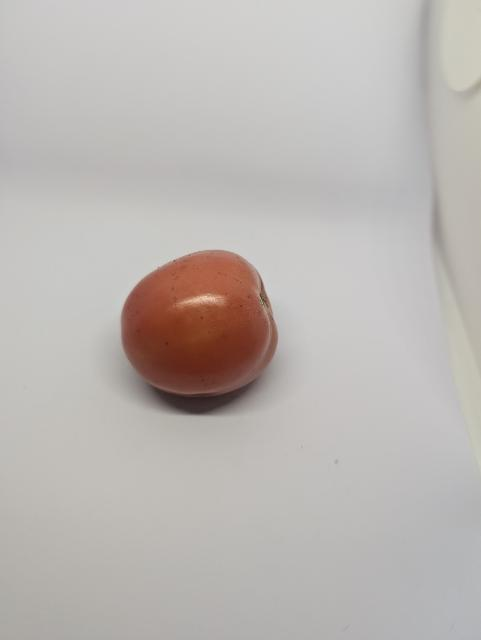red: (113, 248, 295, 416)
